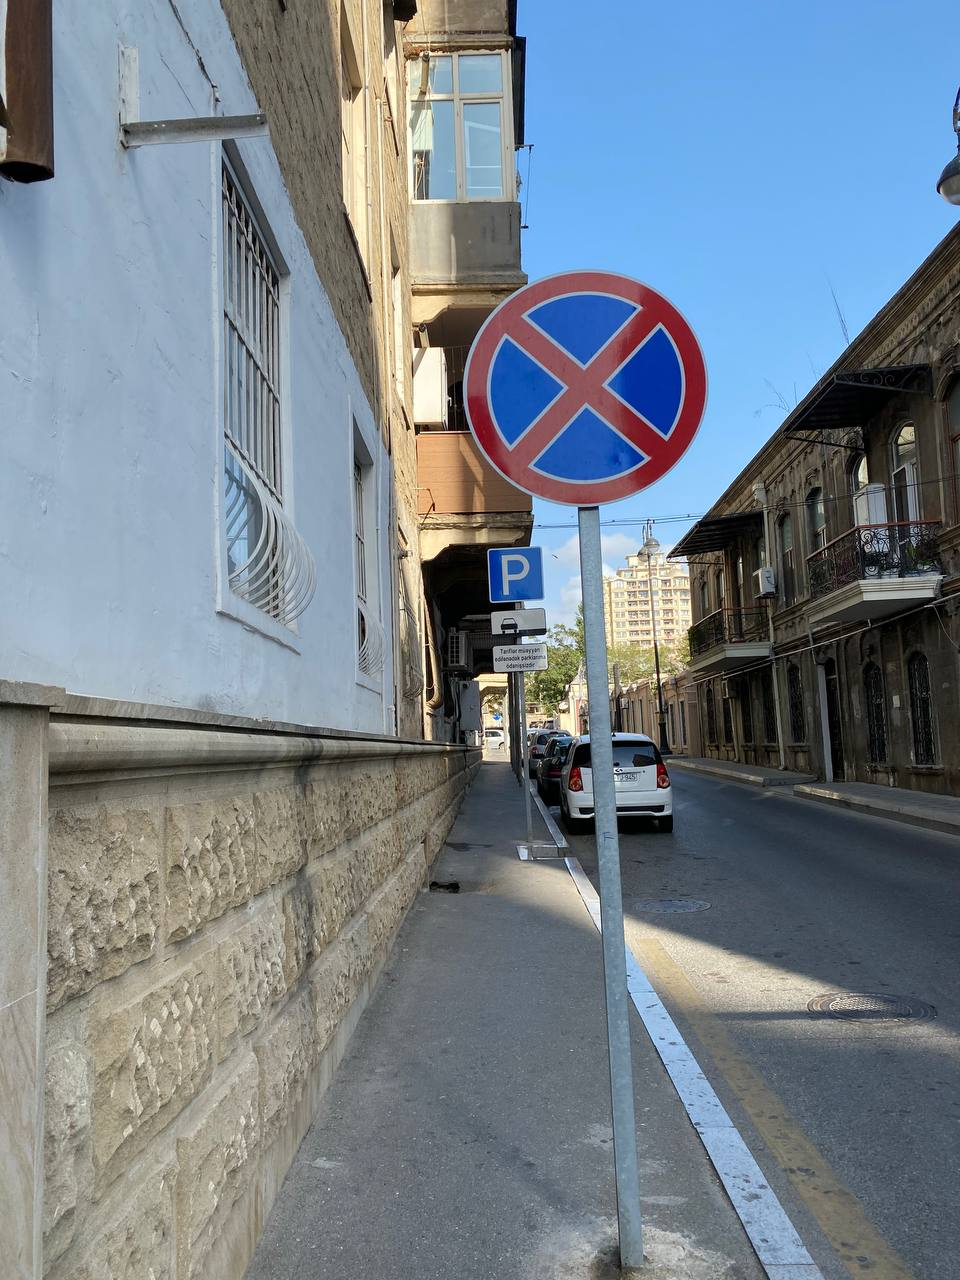No Parking: (462, 269, 710, 508)
Parking-Sign: (487, 544, 545, 603)
